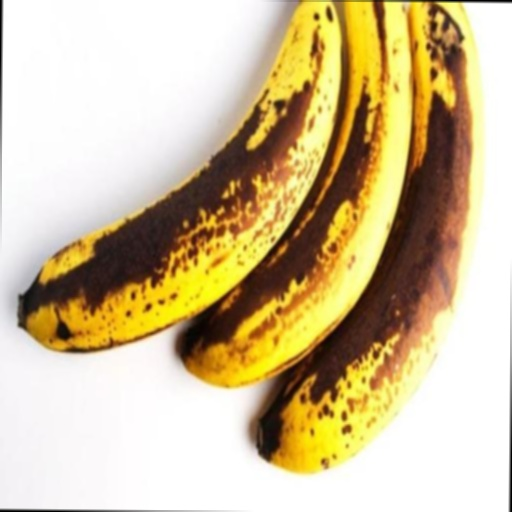fruit: (246, 0, 419, 16), (347, 1, 455, 9), (435, 2, 486, 4)
